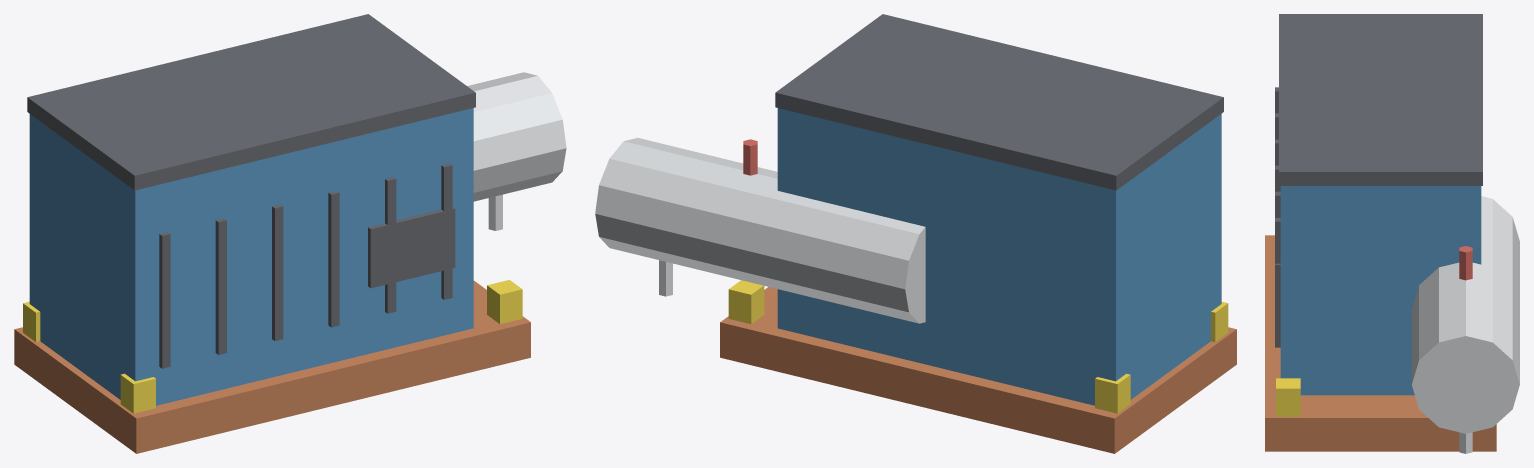
The model's file is shipyard-and-dry-dock-shipyard-and-dry-dock-compressor-e82a93c4__37955.glb.
3 renders of one model, left to right at view 1: azimuth 30°, elevation 25°; view 2: azimuth 150°, elevation 25°; view 3: azimuth 270°, elevation 25°, orthographic. The views are drawn at different scales.
Visible parts, largest first — view 1: shipyard-and-dry-dock-compressor-set; view 2: shipyard-and-dry-dock-compressor-set; view 3: shipyard-and-dry-dock-compressor-set.
Boxes of the visible parts, x1,y1,x2,y2 form: shipyard-and-dry-dock-compressor-set: [14, 14, 566, 453]; shipyard-and-dry-dock-compressor-set: [595, 14, 1236, 453]; shipyard-and-dry-dock-compressor-set: [1265, 14, 1519, 453].
Size of the model in its own units: 3.6 by 1.84 by 1.65.
